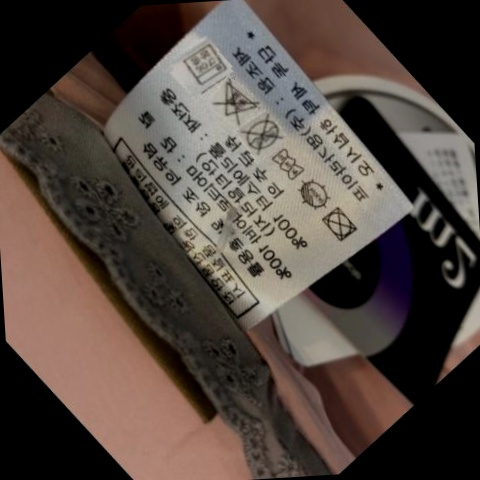30C: (178, 43, 229, 87)
DN_dry_clean: (234, 116, 286, 154)
DN_tumble_dry: (320, 206, 356, 242)
dry_flat_in_shade: (291, 173, 336, 210)
non_chlorine_bleach: (210, 82, 259, 123)
wring: (265, 146, 308, 185)
